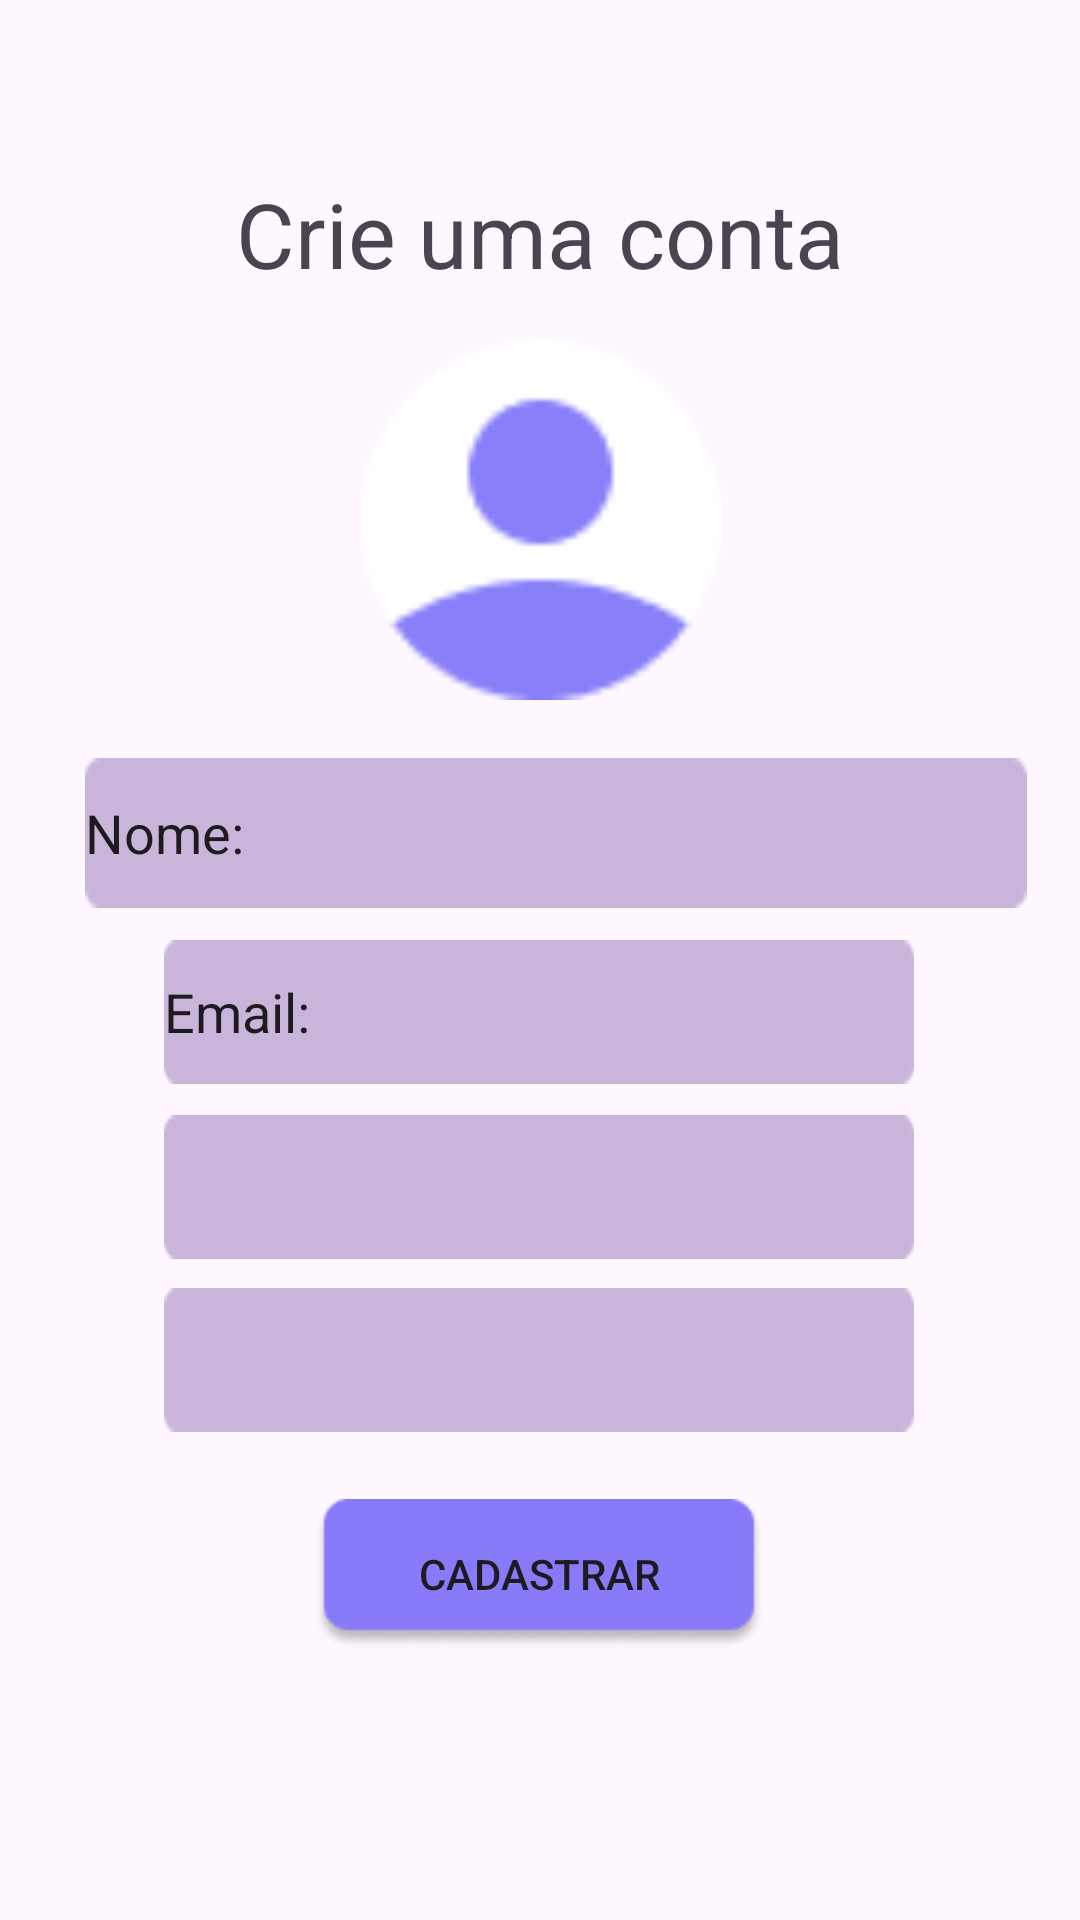

Point at icon controls on the screen. Image size 1080×1920, points as (x=x, y=y).
perfil: (x=541, y=520)
